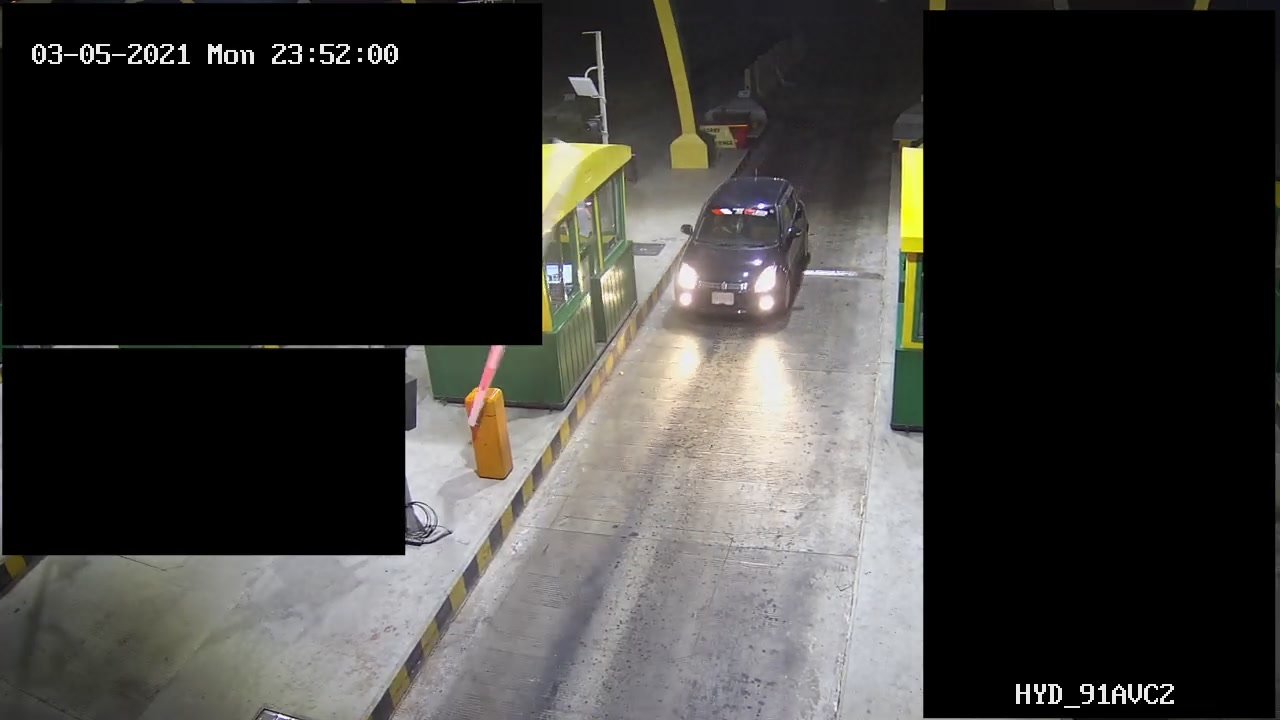F1: (663, 169, 819, 335)
